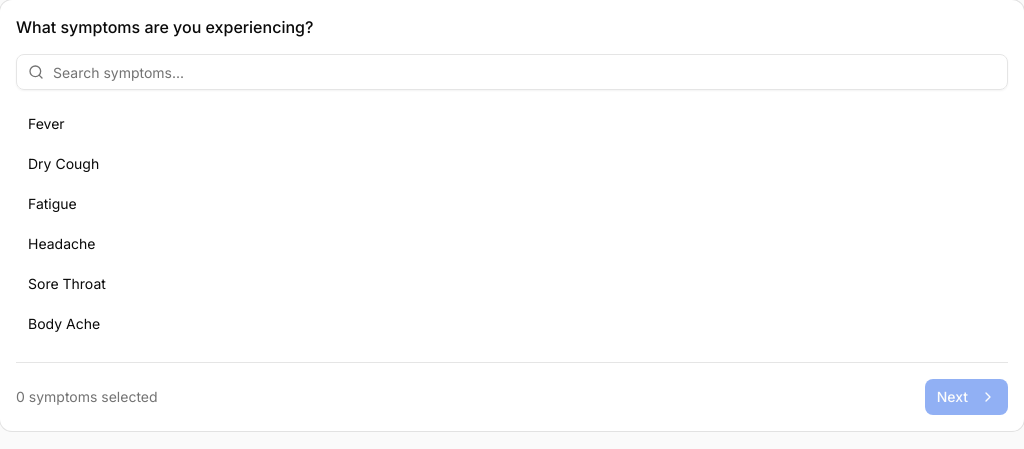
Test: SymptomSelectionStep › filters symptoms based on search
In the field with placeholder "Search symptoms...": [512, 72] box left=16, top=54, right=1008, bottom=90, type "fever"
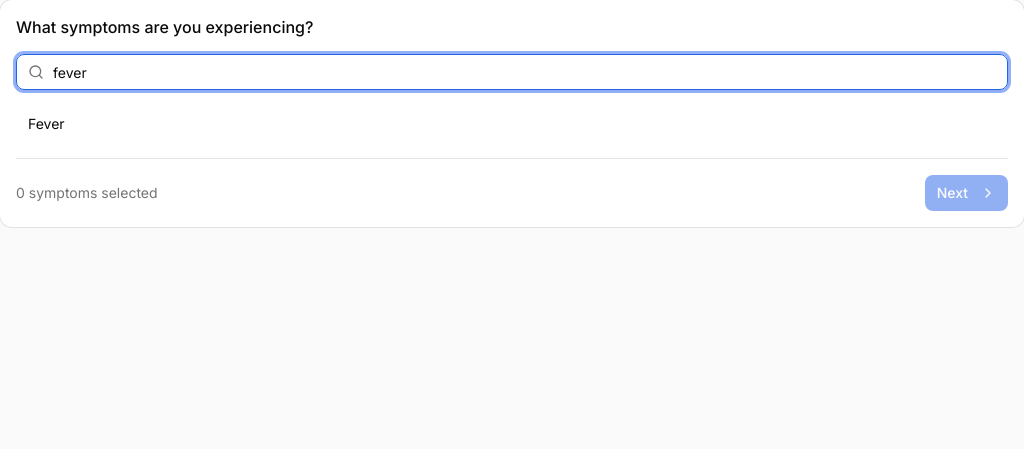
Expected: the button "Fever" is shown, left=16, top=106, right=1008, bottom=142
Expected: the button "Dry Cough" is gone
